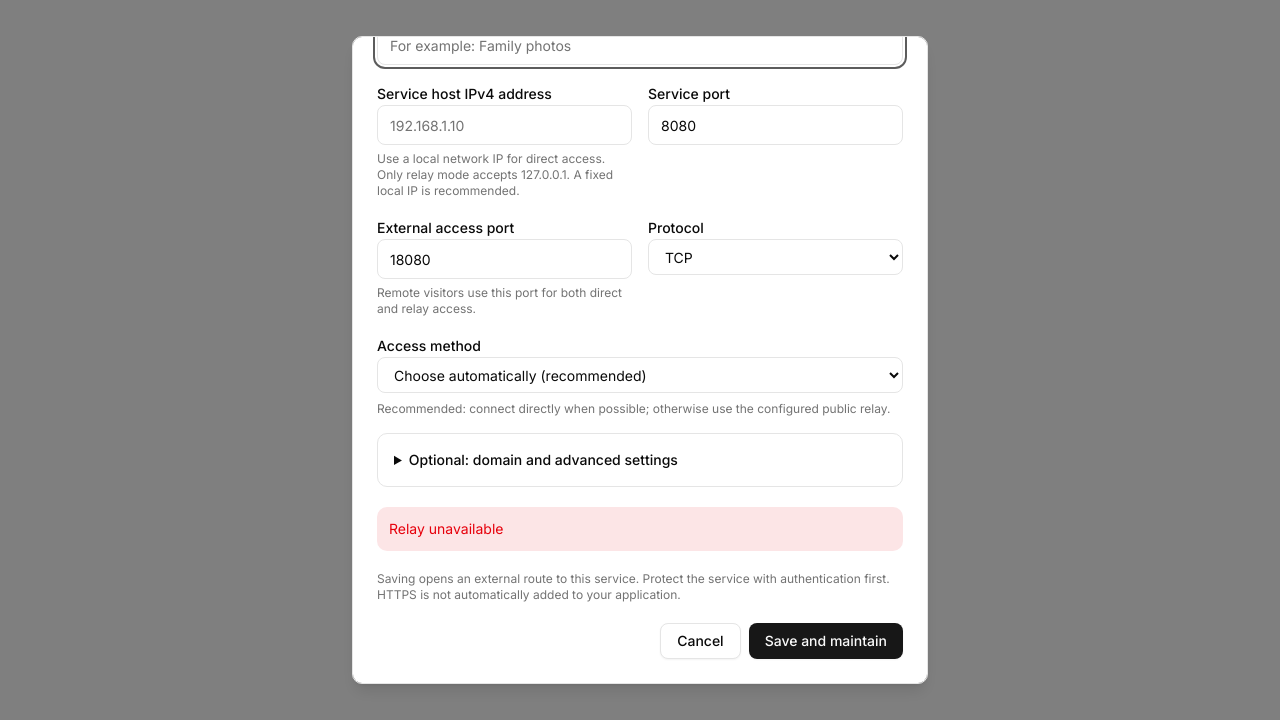
public service form › lets users correct validation without refocusing an earlier save error
(page scrolled)
Click the button "Save and maintain" at [826, 641], box [749,623,903,659]
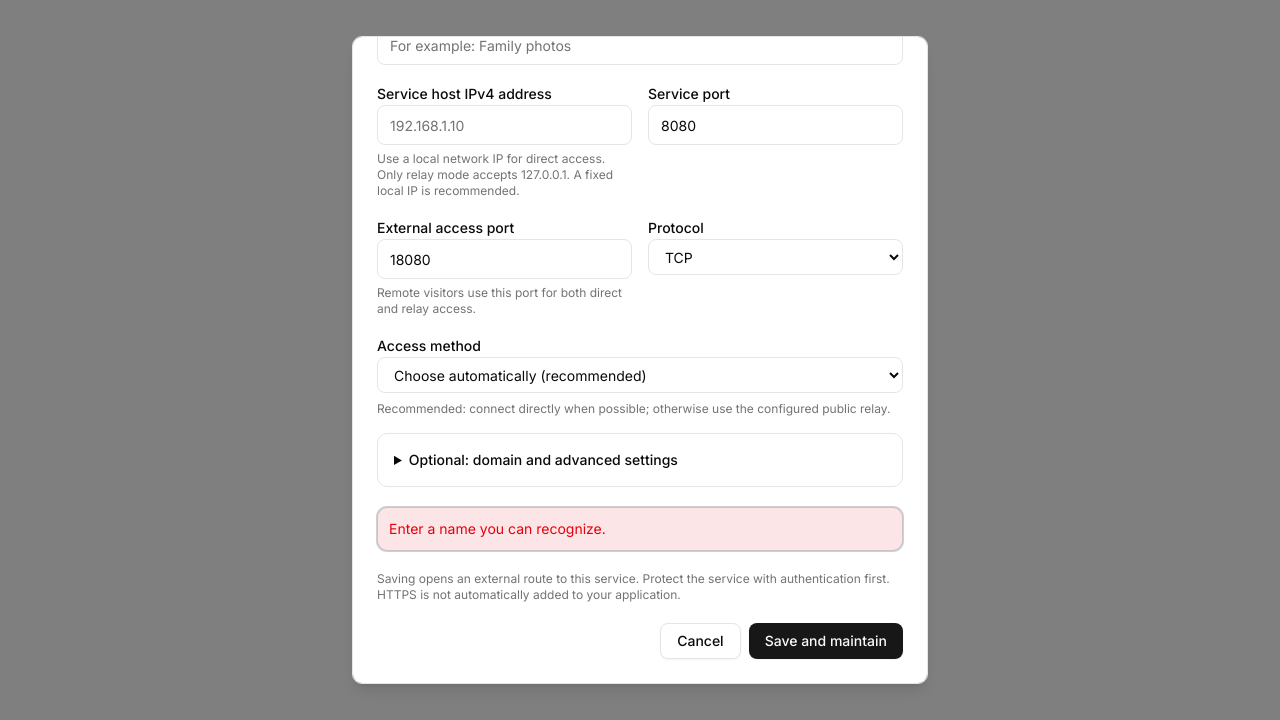
Expected: the message reads "Enter a name you can recognize.", [389,520,606,537]
Type "Family photos" into the field labelled "Service name" at [640, 45], box [377,25,903,65]
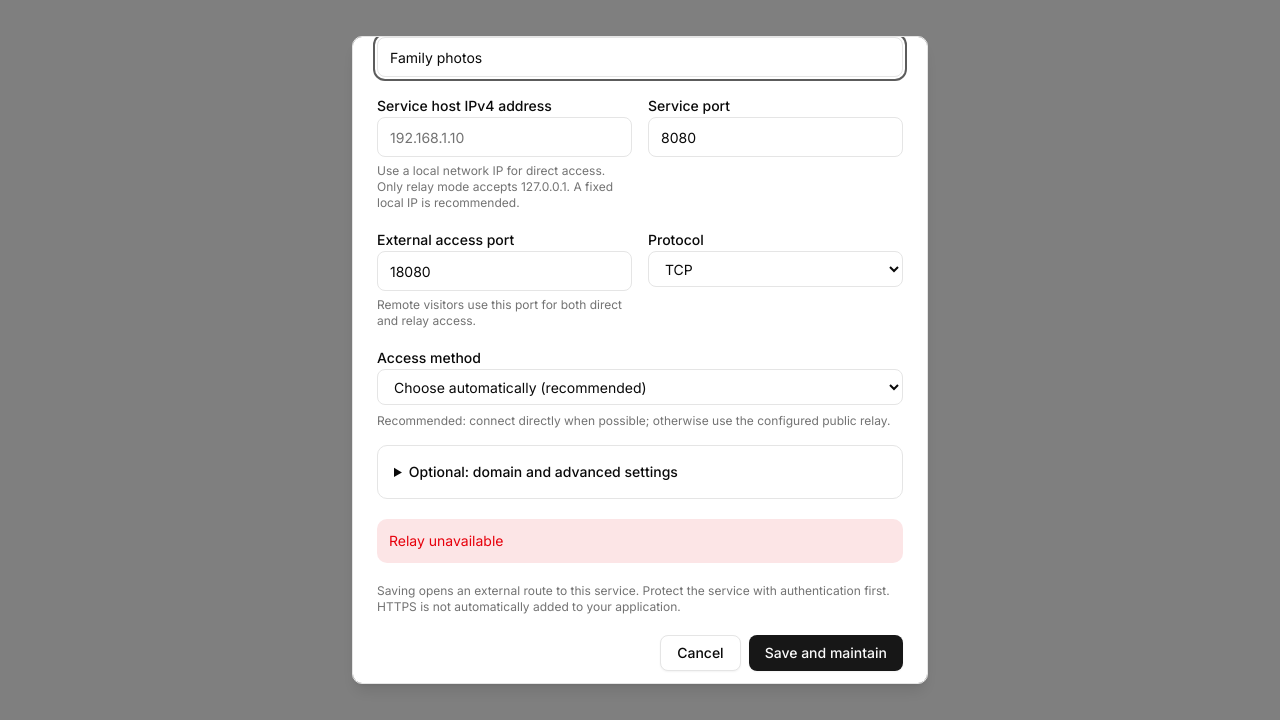
Expected: the message reads "Relay unavailable", [389,532,504,549]
